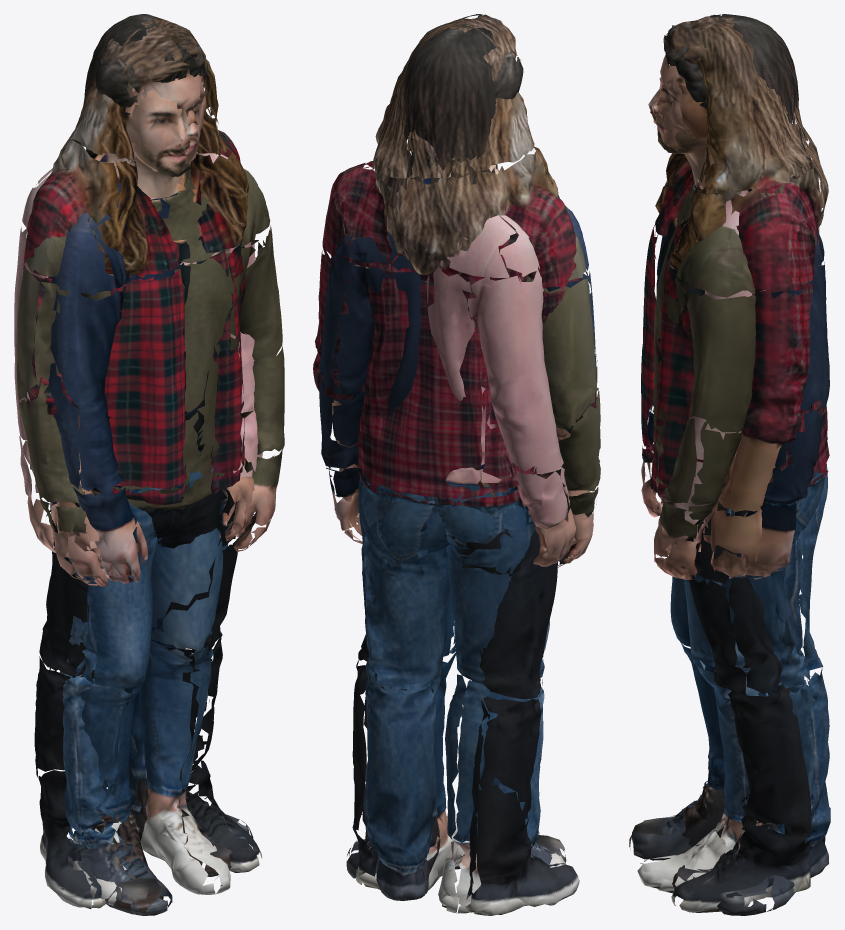
File: level3-villagers.glb
The picture shows the model from 3 angles, left to right: view 1: azimuth 30°, elevation 25°; view 2: azimuth 150°, elevation 25°; view 3: azimuth 270°, elevation 25°; orthographic projection.
Visible parts, largest first — view 1: Villager_3, Villager_2, Villager_1, Villager_4; view 2: Villager_4, Villager_2, Villager_1, Villager_3; view 3: Villager_2, Villager_3, Villager_1, Villager_4.
Part boxes in pixels (x1=…): Villager_3: x1=17, y1=45, x2=284, y2=908; Villager_2: x1=23, y1=18, x2=249, y2=914; Villager_1: x1=48, y1=26, x2=253, y2=915; Villager_4: x1=14, y1=14, x2=262, y2=906; Villager_4: x1=349, y1=25, x2=575, y2=913; Villager_2: x1=313, y1=18, x2=596, y2=893; Villager_1: x1=319, y1=14, x2=597, y2=900; Villager_3: x1=352, y1=15, x2=600, y2=915; Villager_2: x1=632, y1=17, x2=829, y2=888; Villager_3: x1=648, y1=17, x2=811, y2=912; Villager_1: x1=629, y1=16, x2=830, y2=915; Villager_4: x1=637, y1=14, x2=821, y2=893.
Size of the model in its own units: 0.6322 by 2.05 by 0.4397.
1 material, 1 textured.
